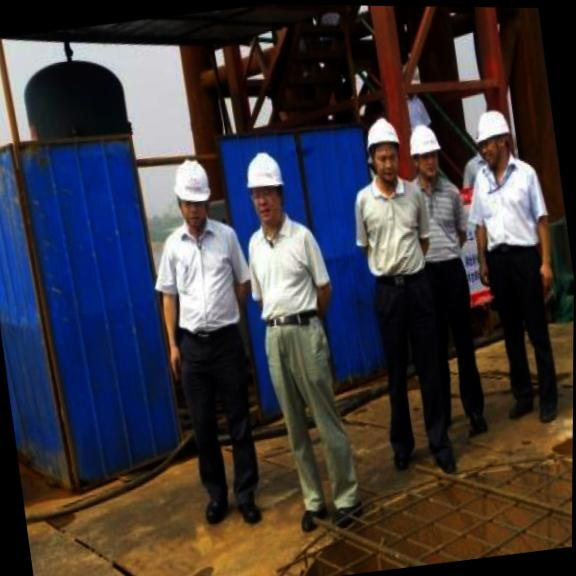no_safety_vest: (142, 211, 259, 347), (240, 210, 339, 339), (345, 168, 439, 286), (462, 150, 556, 263), (409, 168, 475, 270)
